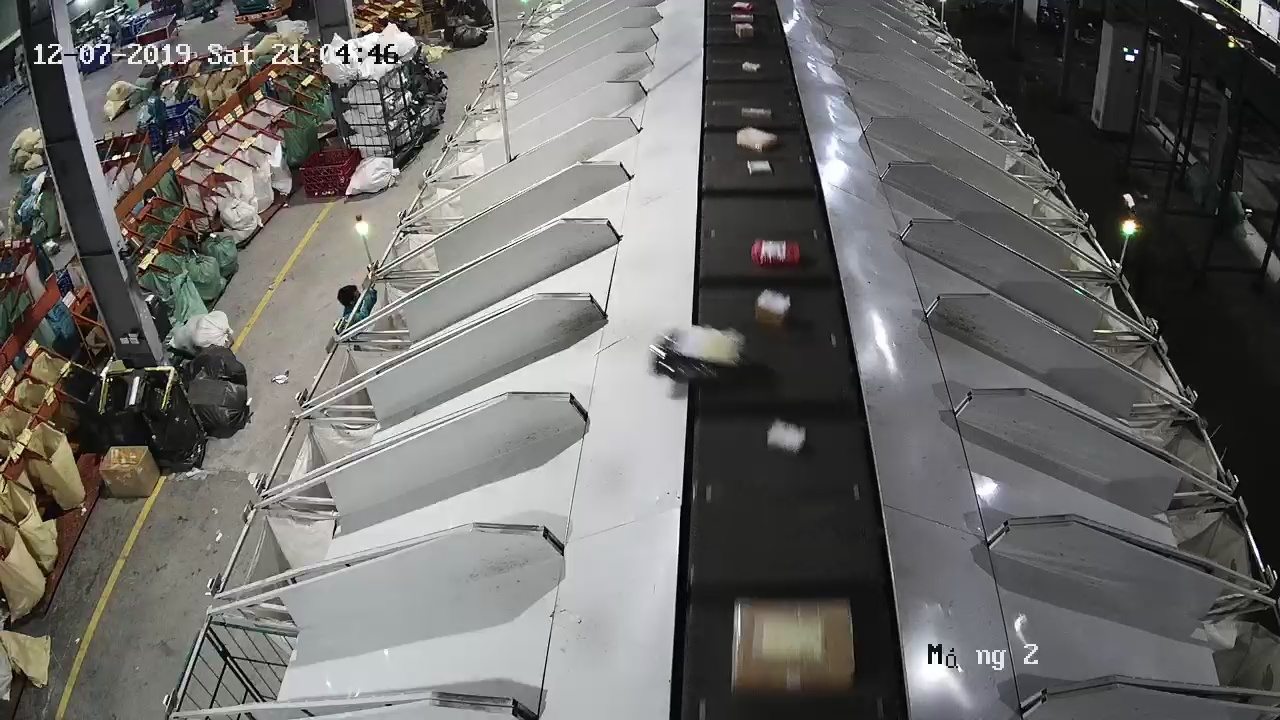parcel: (646, 324, 747, 388)
